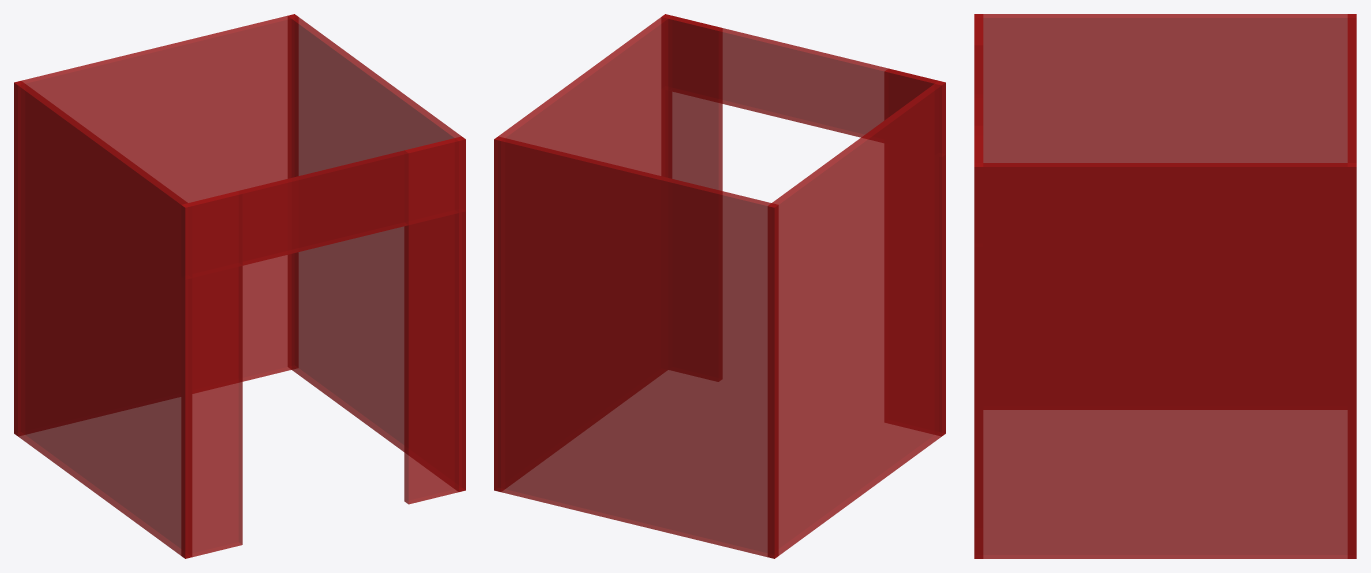
File: SM_Bld_Wall_Elevator_01_Collision.fbx
3 renders of one model, left to right at view 1: azimuth 30°, elevation 25°; view 2: azimuth 150°, elevation 25°; view 3: azimuth 270°, elevation 25°, orthographic. The views are drawn at different scales.
Visible parts, largest first — view 1: SM_Bld_Wall_Elevator_01_Collision; view 2: SM_Bld_Wall_Elevator_01_Collision; view 3: SM_Bld_Wall_Elevator_01_Collision.
Part boxes in pixels (x1,y1,x2,y2): SM_Bld_Wall_Elevator_01_Collision: (14,14,465,558); SM_Bld_Wall_Elevator_01_Collision: (494,14,945,558); SM_Bld_Wall_Elevator_01_Collision: (974,14,1356,558).
Size of the model in its own units: 251 by 300 by 265.
